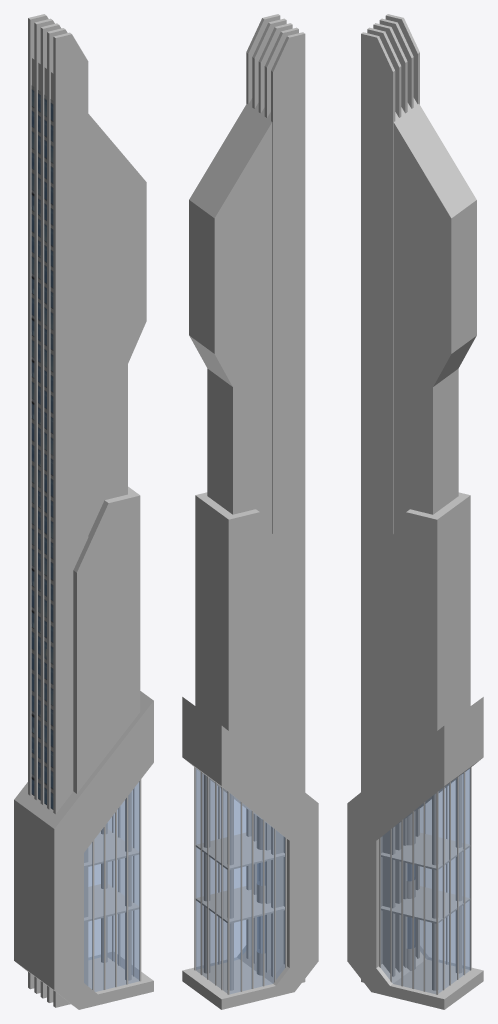
Rendered from FuturisticTower2.fbx.
3 views of the same model, side by side, from view 1: azimuth 30°, elevation 25°; view 2: azimuth 210°, elevation 25°; view 3: azimuth 330°, elevation 25° (orthographic). The views are drawn at different scales.
Parts seen in each view (by area): view 1: PillarsHigh, MidSection+LargeWindow, LowerSection, HighSection, Windows, WindowFrames, Floors, Pillars.001; view 2: MidSection+LargeWindow, HighSection, PillarsHigh, LowerSection, WindowFrames, Floors, Pillars.001, LiftStop.002, EmmissiveInside; view 3: MidSection+LargeWindow, HighSection, PillarsHigh, LowerSection, WindowFrames, Floors, Pillars.001, LiftStop.002, EmmissiveInside.
Boxes of the visible parts, bbox=[...] form: PillarsHigh: bbox=[28, 14, 88, 1007]; MidSection+LargeWindow: bbox=[73, 486, 140, 991]; LowerSection: bbox=[14, 691, 153, 1009]; HighSection: bbox=[32, 58, 146, 534]; Windows: bbox=[31, 85, 53, 809]; WindowFrames: bbox=[92, 779, 141, 990]; Floors: bbox=[84, 829, 139, 922]; Pillars.001: bbox=[101, 792, 131, 980]; MidSection+LargeWindow: bbox=[195, 492, 290, 993]; HighSection: bbox=[189, 98, 272, 532]; PillarsHigh: bbox=[246, 14, 305, 982]; LowerSection: bbox=[182, 697, 318, 1009]; WindowFrames: bbox=[194, 767, 286, 994]; Floors: bbox=[195, 832, 284, 923]; Pillars.001: bbox=[203, 774, 233, 990]; LiftStop.002: bbox=[256, 816, 265, 975]; EmmissiveInside: bbox=[246, 809, 272, 976]; MidSection+LargeWindow: bbox=[375, 492, 470, 993]; HighSection: bbox=[393, 98, 476, 532]; PillarsHigh: bbox=[361, 14, 419, 982]; LowerSection: bbox=[347, 697, 483, 1009]; WindowFrames: bbox=[379, 767, 471, 994]; Floors: bbox=[381, 832, 470, 923]; Pillars.001: bbox=[432, 774, 462, 990]; LiftStop.002: bbox=[406, 811, 415, 970]; EmmissiveInside: bbox=[394, 809, 419, 976].
Bounding box in the file's own units: 2.86 × 26.66 × 2.
